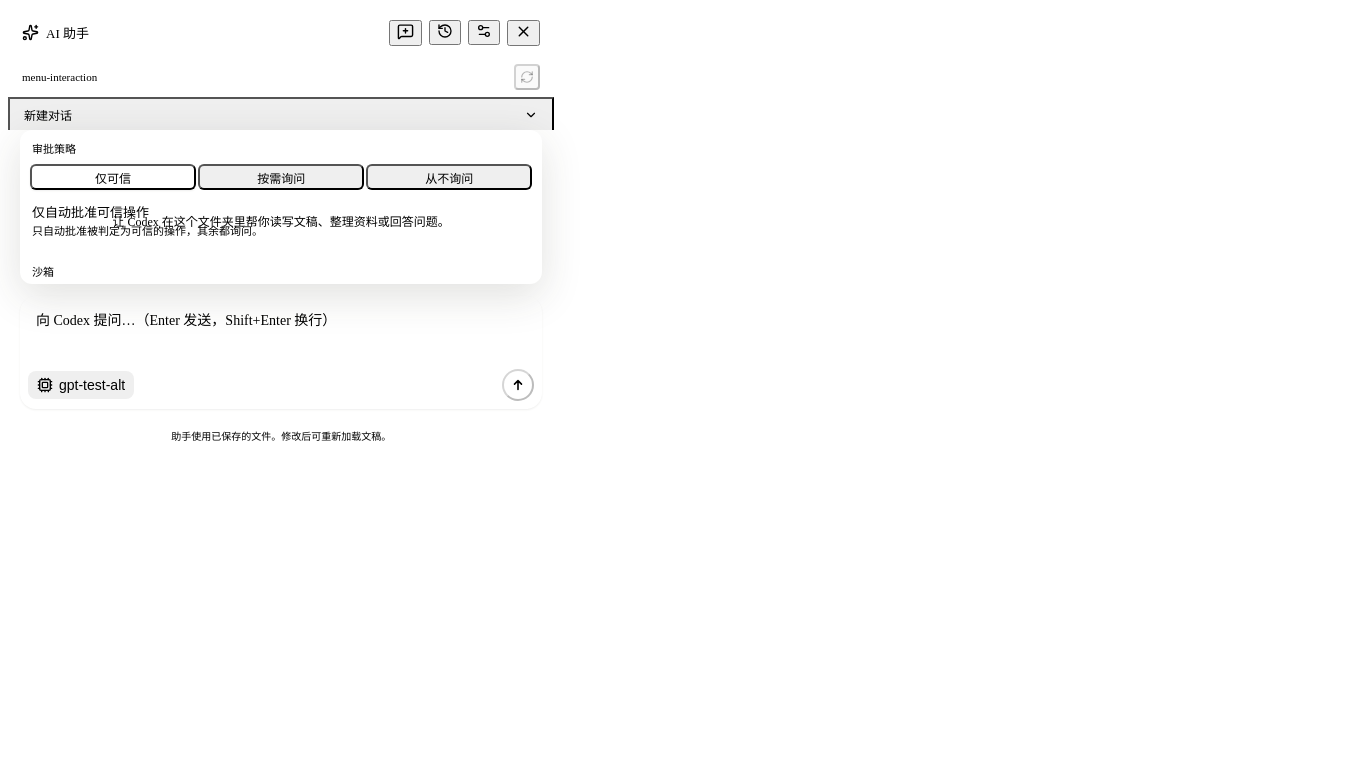
Test: codex conversation › keeps only the model shortcut and opens both permission settings from the picker
The image size is (1366, 768).
Earlier steps of the test are not shown.
Click the button named "助手设置": (484, 32) [468,20,500,45]
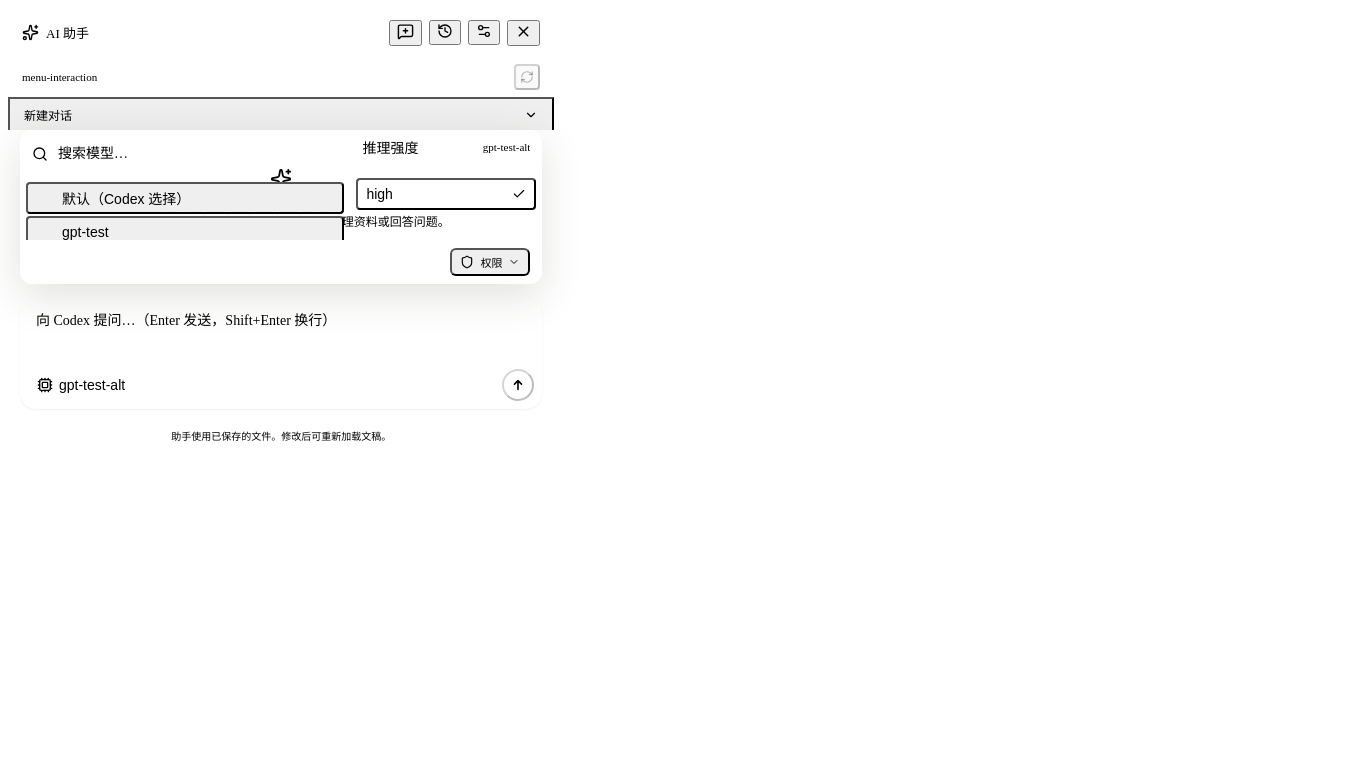
Check: the dialog named "选择模型" is shown, box [20,130,542,284]
Click the button named "助手设置": (484, 32) [468,20,500,45]
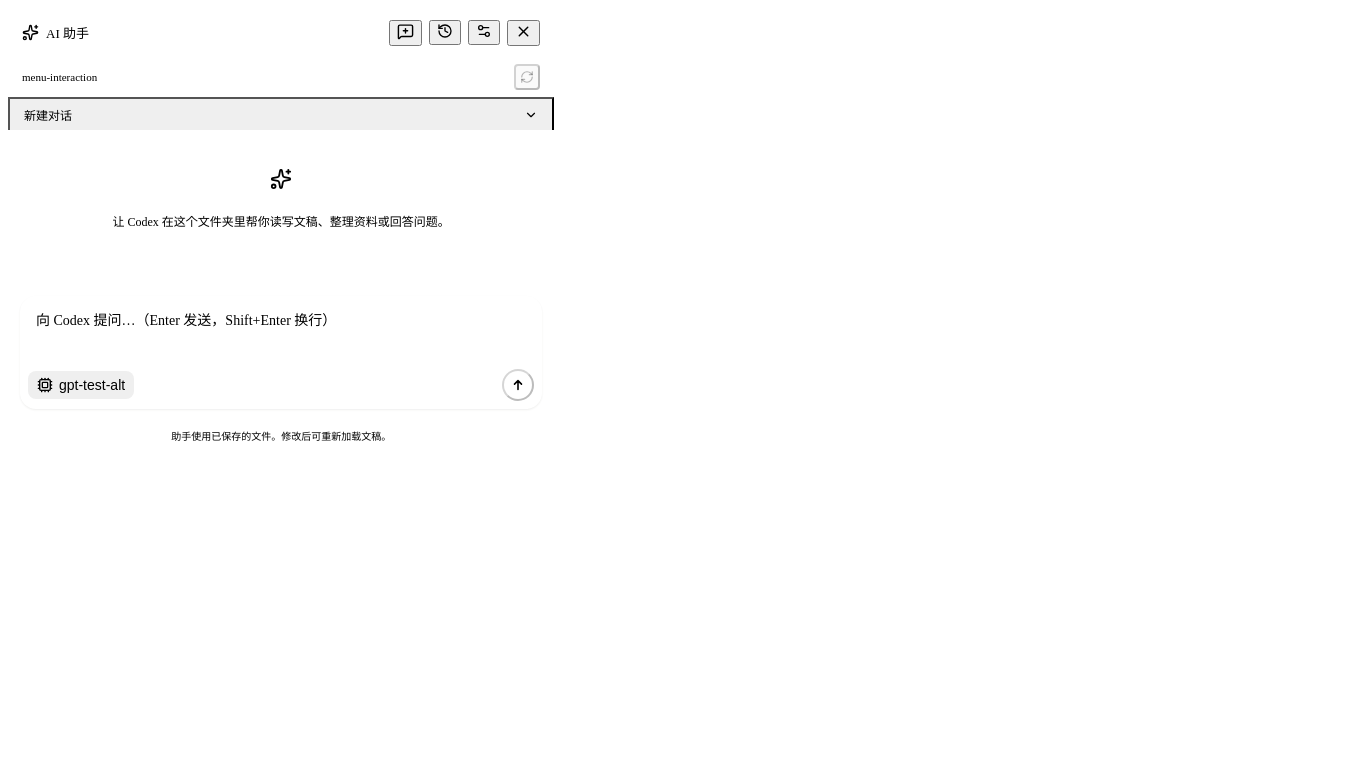
Check: the dialog named "选择模型" is gone
